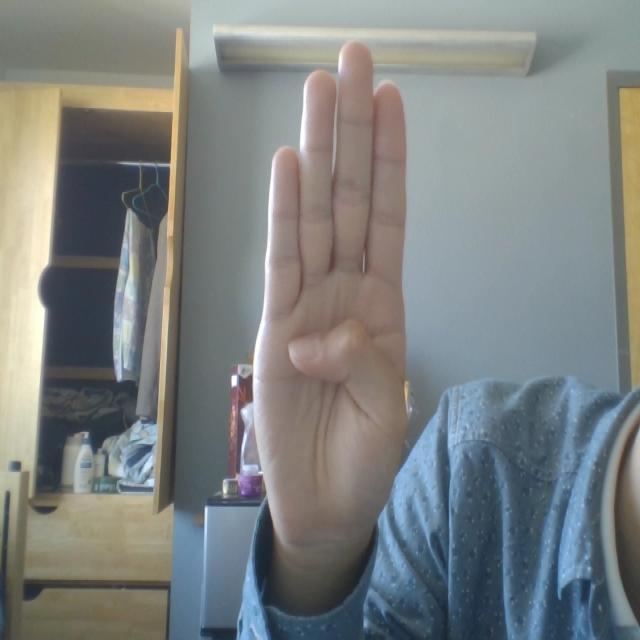B: (230, 23, 420, 580)
